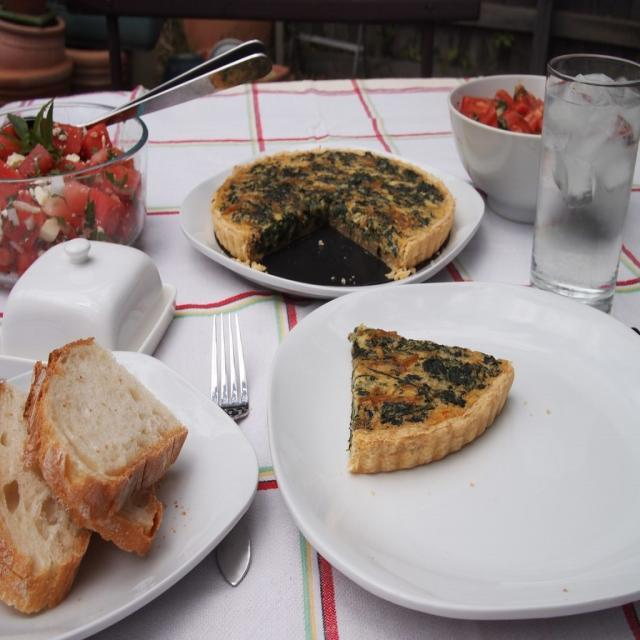Bread: (31, 340, 191, 530), (348, 331, 524, 479), (2, 381, 92, 613), (98, 490, 162, 558)
